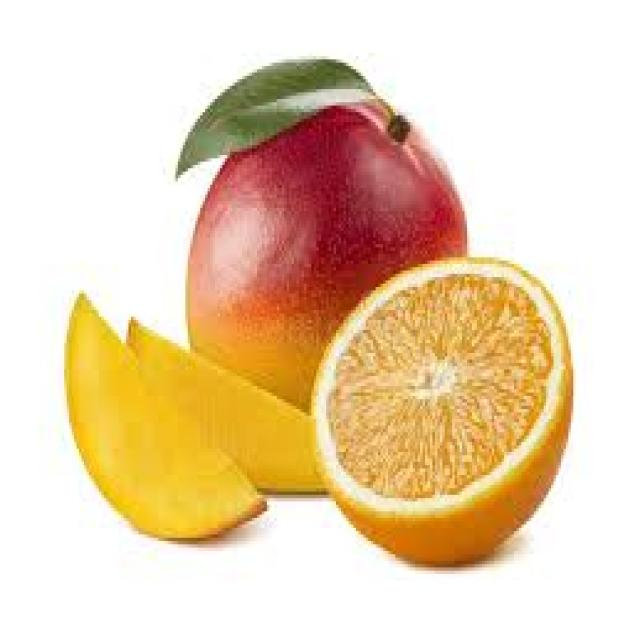Mango: (180, 92, 465, 405), (62, 292, 267, 546), (126, 312, 327, 496)
Orange: (311, 256, 573, 566)
